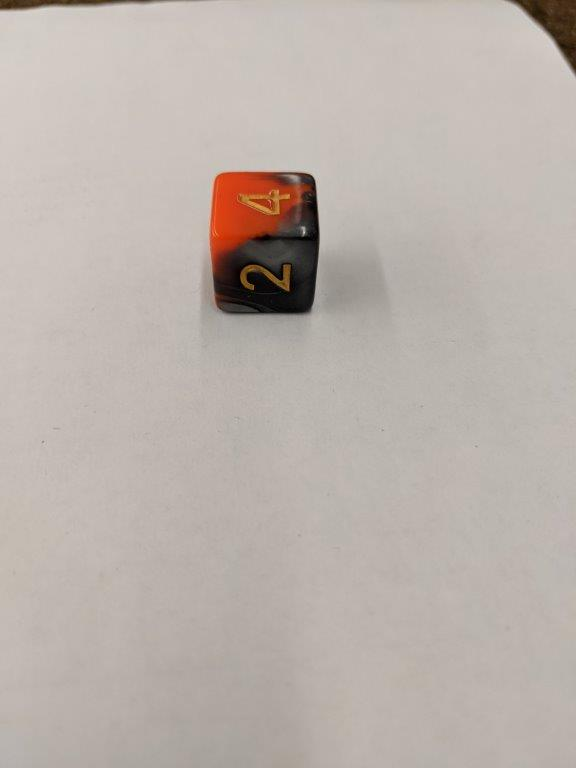d6-4: (206, 170, 323, 320)
